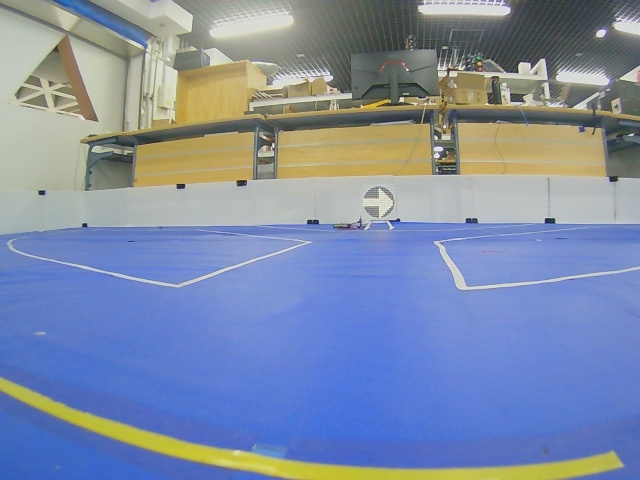right_yellow: (363, 186, 395, 219)
